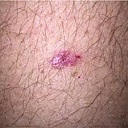Carcinoma: (51, 49, 81, 70)
